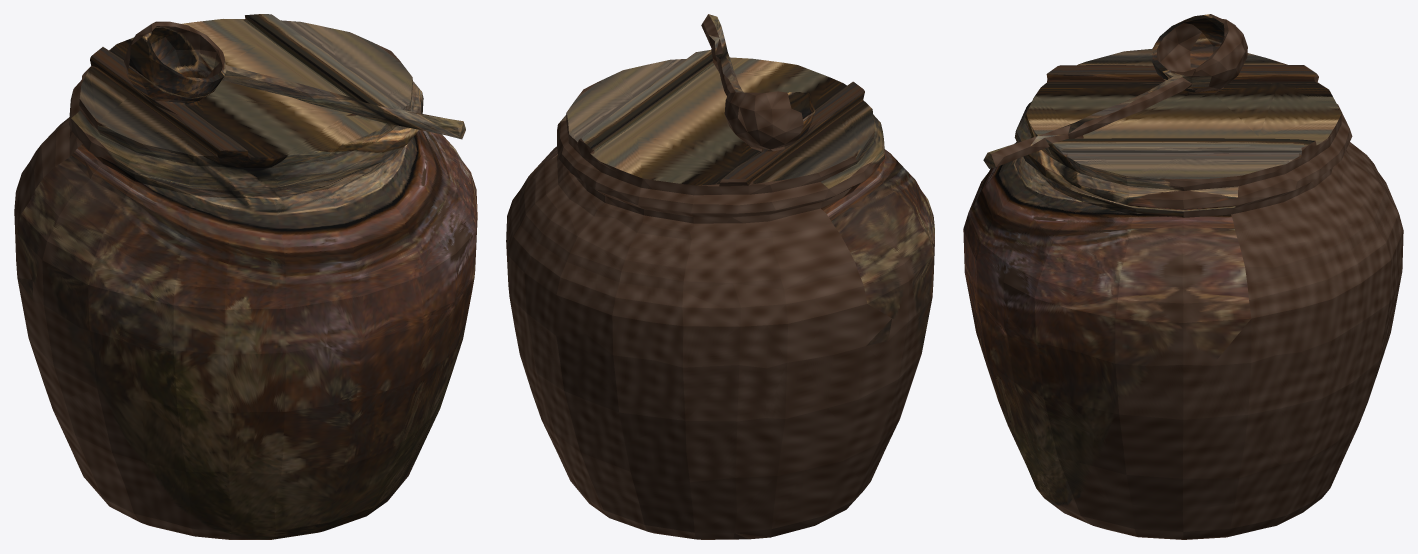
The model's file is water_jar_reduced.glb.
3 views of the same model, side by side, from view 1: azimuth 30°, elevation 25°; view 2: azimuth 150°, elevation 25°; view 3: azimuth 270°, elevation 25° (orthographic). The views are drawn at different scales.
Visible parts, largest first — view 1: CoveredSurface; view 2: CoveredSurface; view 3: CoveredSurface.
Boxes of the visible parts, bbox=[...] form: CoveredSurface: bbox=[14, 14, 477, 539]; CoveredSurface: bbox=[506, 14, 934, 539]; CoveredSurface: bbox=[963, 14, 1403, 539].
Bounding box in the file's own units: 1.84 × 1.99 × 1.83.
1 material, 1 textured.
